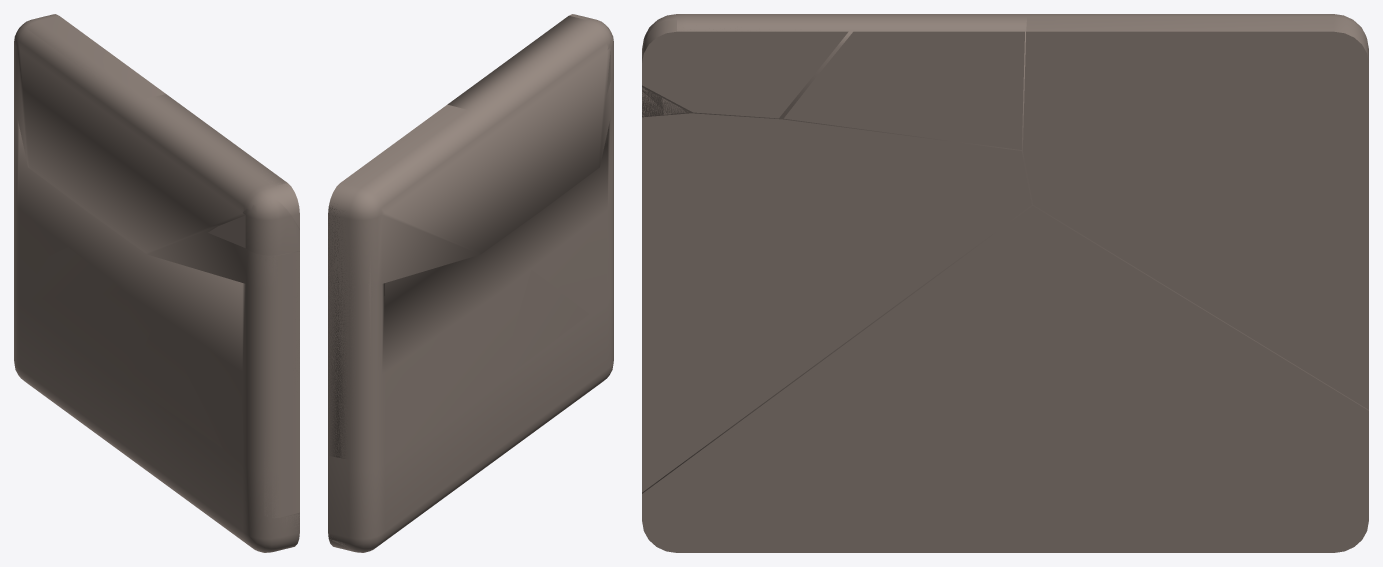
Rendered from Dishwasher.fbx.
The picture shows the model from 3 angles, left to right: view 1: azimuth 30°, elevation 25°; view 2: azimuth 150°, elevation 25°; view 3: azimuth 270°, elevation 25°; orthographic projection. The views are drawn at different scales.
Visible parts, largest first — view 1: Dishwasher, Dishwasher_cell.001, Dishwasher_cell.004, Dishwasher_cell, Dishwasher_cell.002, Dishwasher_cell.003; view 2: Dishwasher, Dishwasher_cell.001, Dishwasher_cell, Dishwasher_cell.004; view 3: Dishwasher_cell.001, Dishwasher_cell, Dishwasher_cell.004, Dishwasher_cell.005, Dishwasher_cell.003, Dishwasher.
Boxes of the visible parts, x1,y1,x2,y2 form: Dishwasher: (14,21,299,552); Dishwasher_cell.001: (20,247,299,549); Dishwasher_cell.004: (242,251,299,518); Dishwasher_cell: (22,14,165,103); Dishwasher_cell.002: (208,200,299,255); Dishwasher_cell.003: (265,180,299,228); Dishwasher: (328,15,613,552); Dishwasher_cell.001: (328,269,589,550); Dishwasher_cell: (328,104,479,458); Dishwasher_cell.004: (607,208,610,299); Dishwasher_cell.001: (642,206,1368,552); Dishwasher_cell: (1023,14,1368,409); Dishwasher_cell.004: (642,113,1031,492); Dishwasher_cell.005: (656,24,1024,149); Dishwasher_cell.003: (642,19,848,118); Dishwasher: (642,14,1368,493).
Bounding box in the file's own units: 29.39 × 117 × 148.
